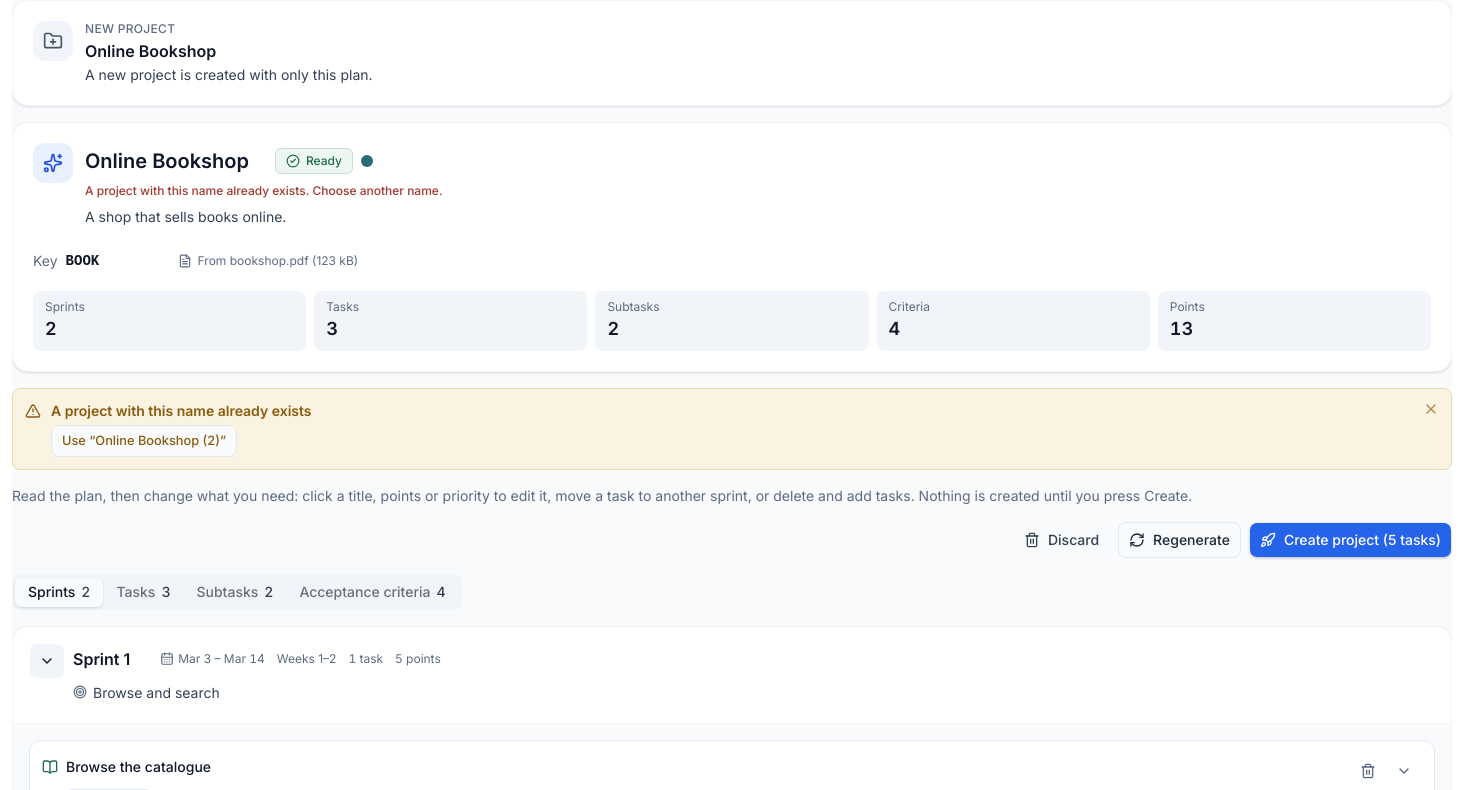
Scenario: ReviewStep › TEST-007 AC-007: offers the free name or key when the server says it is taken
Expected: the message "A project with this name already exists. Choose another name." is shown, [85,183,442,198]
Click the button "Use “Online Bookshop (2)”" at (144, 441), box [51,425,237,457]
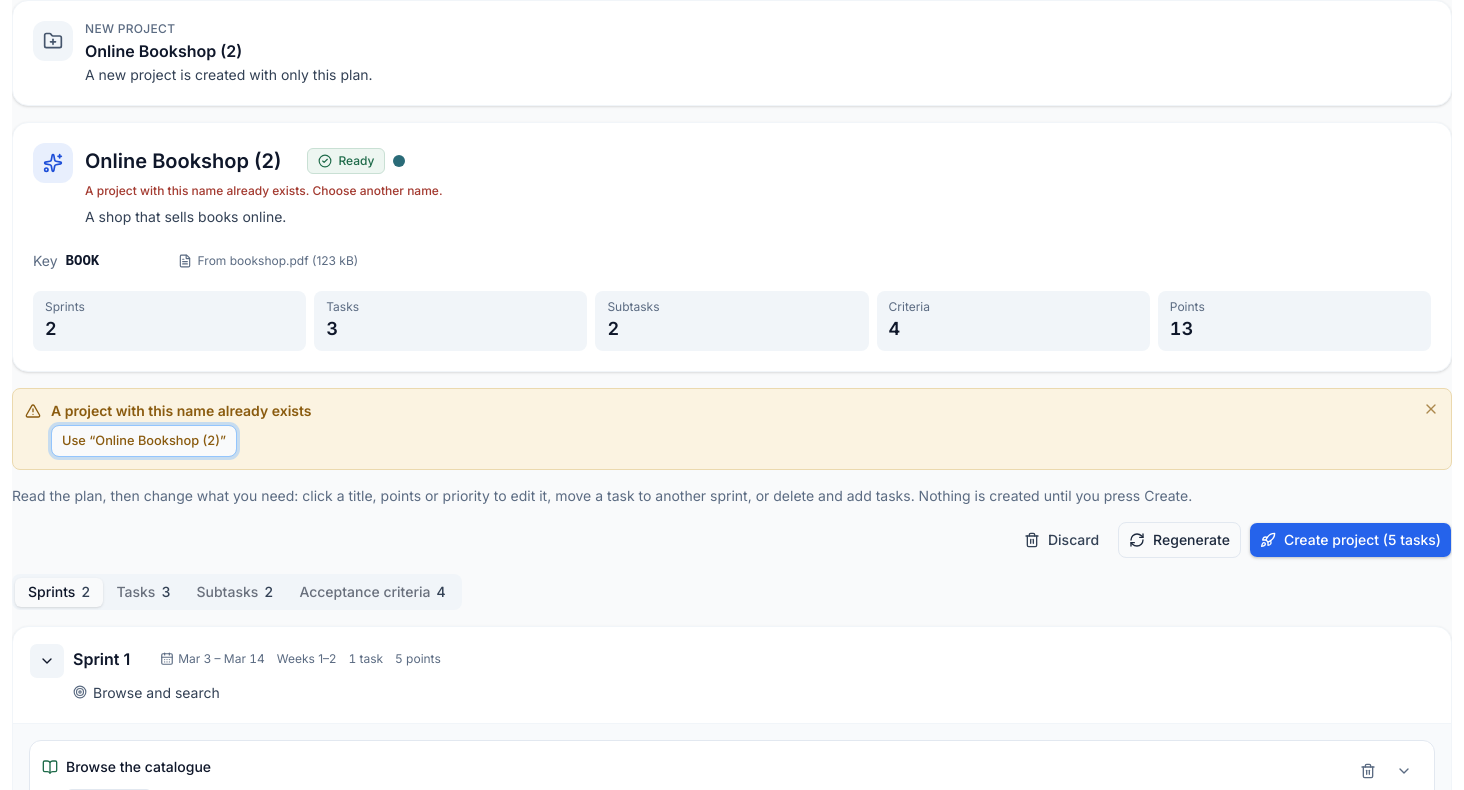
Result: the text "Online Bookshop (2)" is shown at [85,41,242,61]
